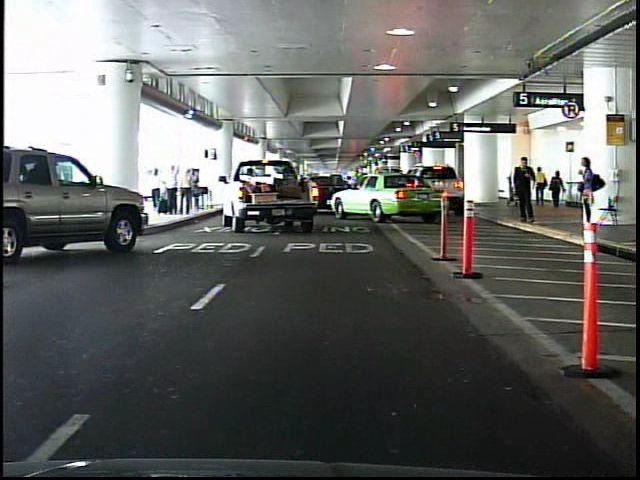person: (575, 154, 602, 232), (510, 153, 536, 226), (546, 169, 566, 210), (535, 166, 547, 206)
